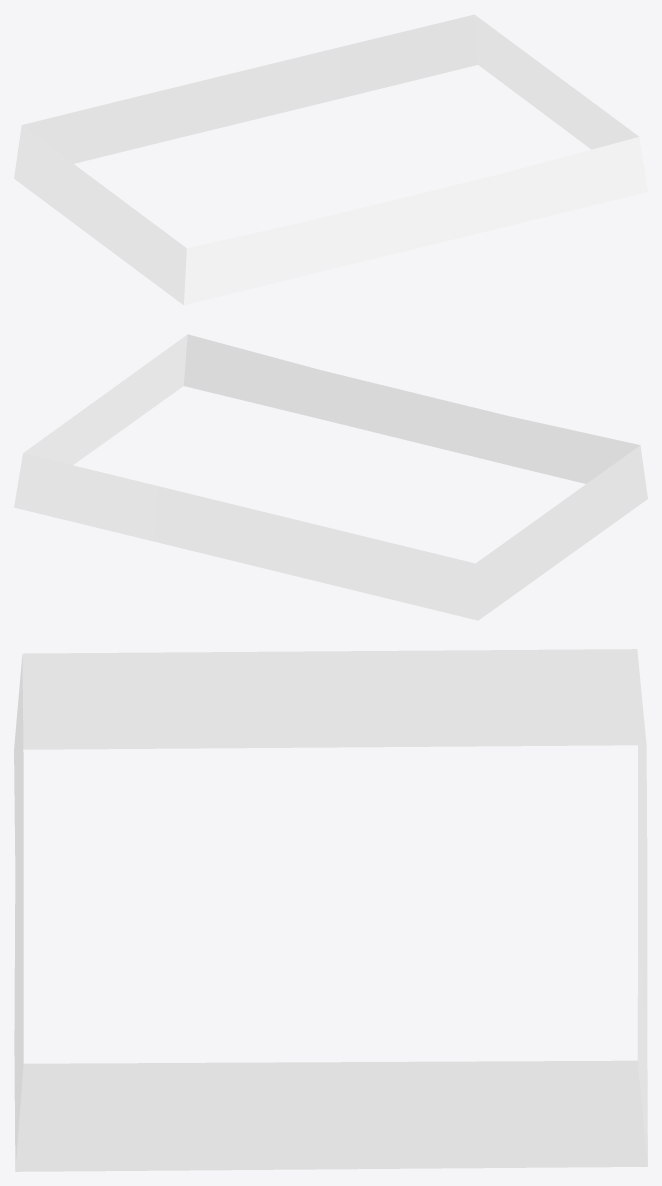
File: Lid_Edge_Glow_Big.fbx
The picture shows the model from 3 angles, top to bottom: view 1: azimuth 30°, elevation 25°; view 2: azimuth 150°, elevation 25°; view 3: azimuth 270°, elevation 25°; orthographic projection. The views are drawn at different scales.
Visible parts, largest first — view 1: Lid_Edge_Glow_Big; view 2: Lid_Edge_Glow_Big; view 3: Lid_Edge_Glow_Big.
Part boxes in pixels (x1,y1,x2,y2): Lid_Edge_Glow_Big: (14, 14, 647, 305); Lid_Edge_Glow_Big: (14, 334, 647, 620); Lid_Edge_Glow_Big: (14, 649, 647, 1171).
Bounding box in the file's own units: 161 × 18.86 × 102.
Materials: 1 (1 with a texture image).
